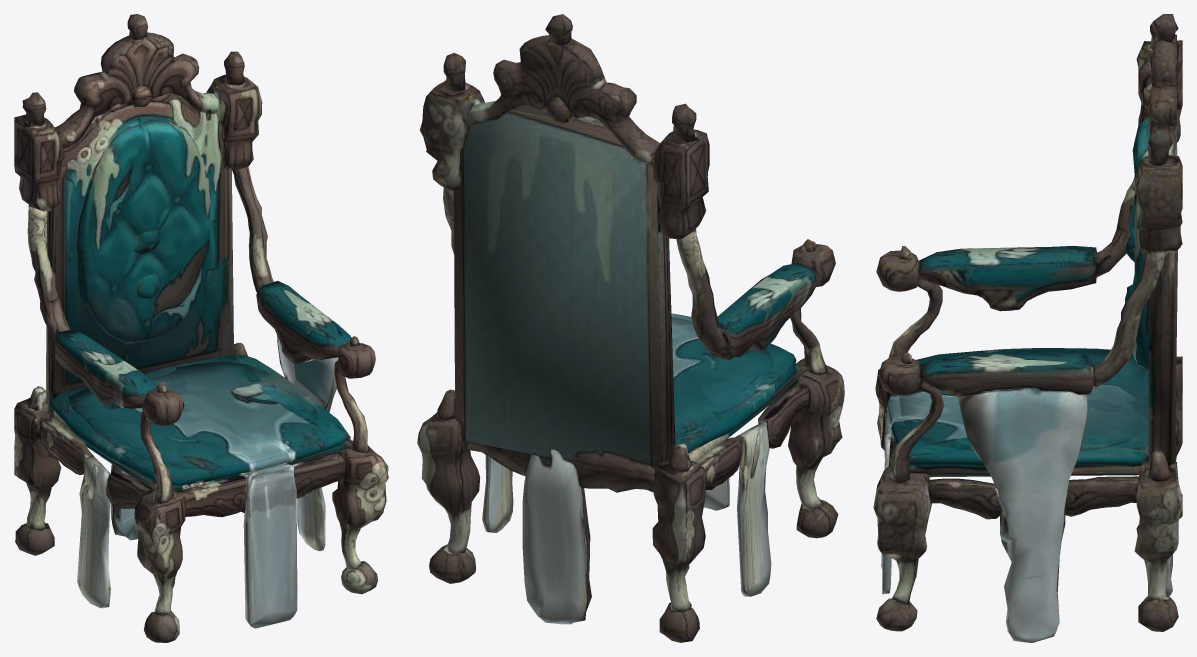
Rendered from cs_trono.glb.
3 renders of one model, left to right at view 1: azimuth 30°, elevation 25°; view 2: azimuth 150°, elevation 25°; view 3: azimuth 270°, elevation 25°, orthographic. The views are drawn at different scales.
Parts seen in each view (by area): view 1: mesh_node; view 2: mesh_node; view 3: mesh_node.
Boxes of the visible parts, <box> form: mesh_node: <box>14,14,388,642</box>; mesh_node: <box>417,14,844,642</box>; mesh_node: <box>873,14,1182,642</box>.
Size of the model in its own units: 0.3086 by 0.6465 by 0.3145.
1 material, 1 textured.
